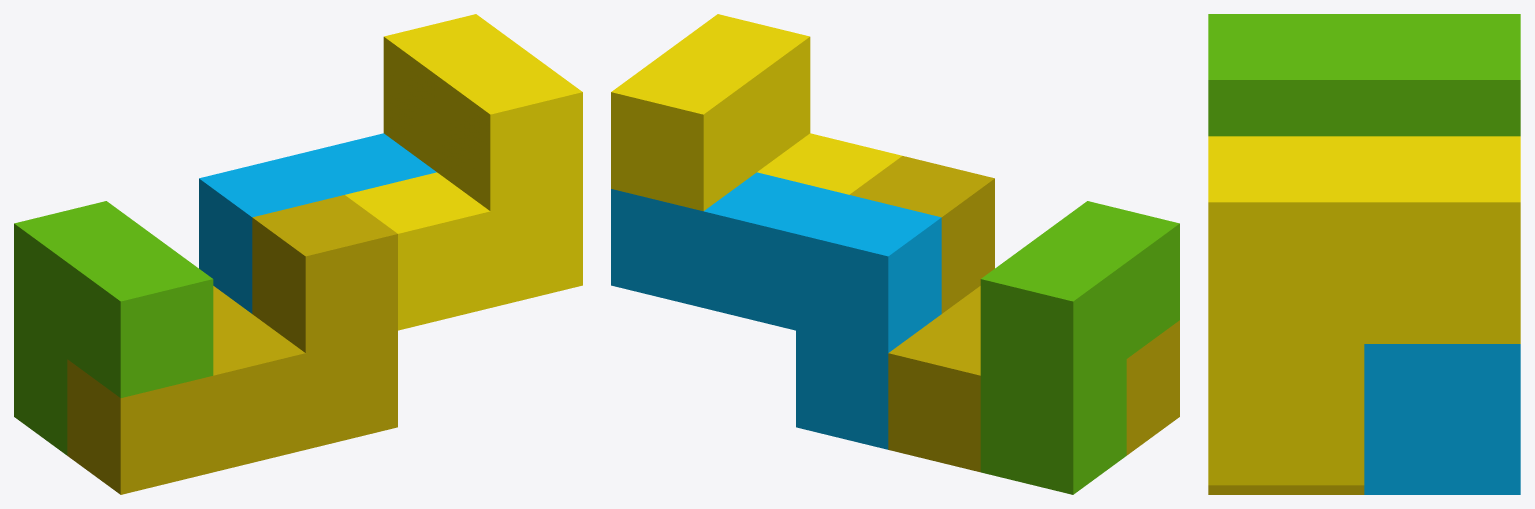
The picture shows the model from 3 angles, left to right: view 1: azimuth 30°, elevation 25°; view 2: azimuth 150°, elevation 25°; view 3: azimuth 270°, elevation 25°; orthographic projection. The views are drawn at different scales.
Parts seen in each view (by area): view 1: mergedBlocks(Clone); view 2: mergedBlocks(Clone); view 3: mergedBlocks(Clone).
Boxes of the visible parts, box(x1,y1,x2,y2) form: mergedBlocks(Clone): box(14, 14, 582, 494); mergedBlocks(Clone): box(611, 14, 1179, 494); mergedBlocks(Clone): box(1208, 14, 1520, 494).
Bounding box in the file's own units: 5 × 3 × 2.
Materials: 4 (4 with a texture image).
